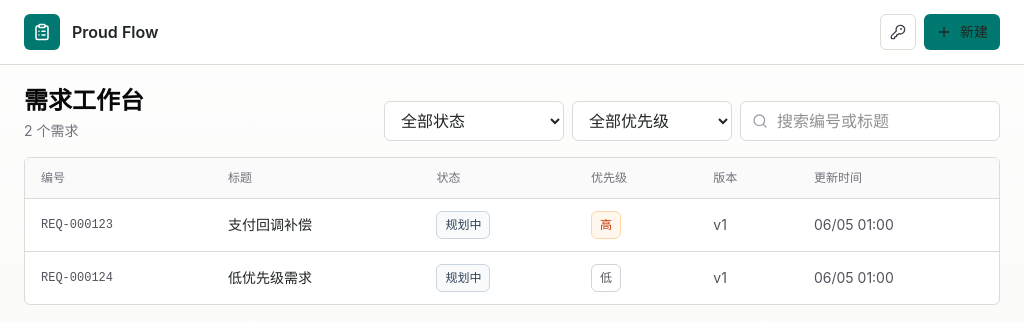
Test case: P7 web workspace › renders and filters requirements from the API
Expected: the link "支付回调补偿" is shown, [228, 216, 312, 233]
Type "支付" into the field with placeholder "搜索编号或标题" at [870, 121], box [740, 101, 1000, 141]
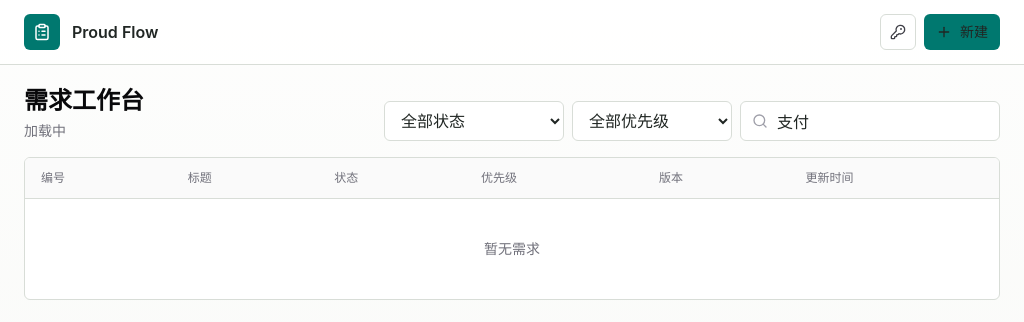
Result: the link "低优先级需求" is gone
Clear the field with placeholder "搜索编号或标题" at [870, 121], box [740, 101, 1000, 141]
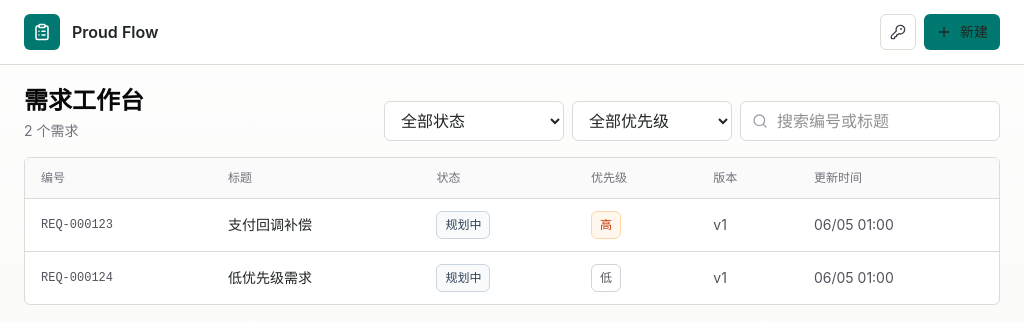
Select "低" in the 2nd dropdown at [652, 121], box [572, 101, 732, 141]
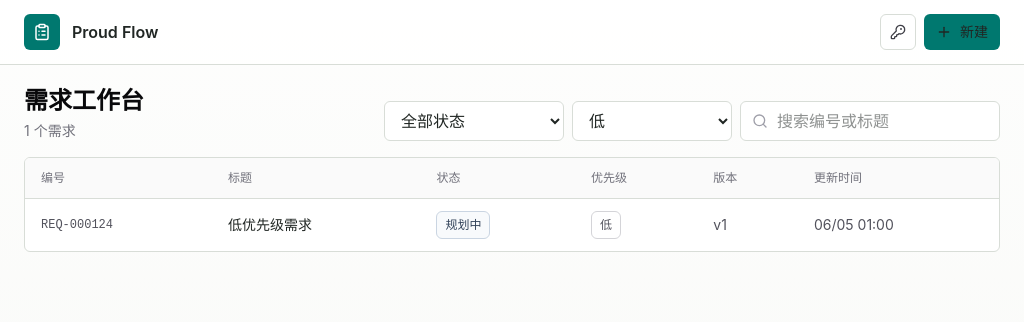
Result: the link "低优先级需求" is shown at [228, 216, 312, 233]
Result: the link "支付回调补偿" is gone
Select "技术方案待审" in the 1st dropdown at [474, 121], box [384, 101, 564, 141]
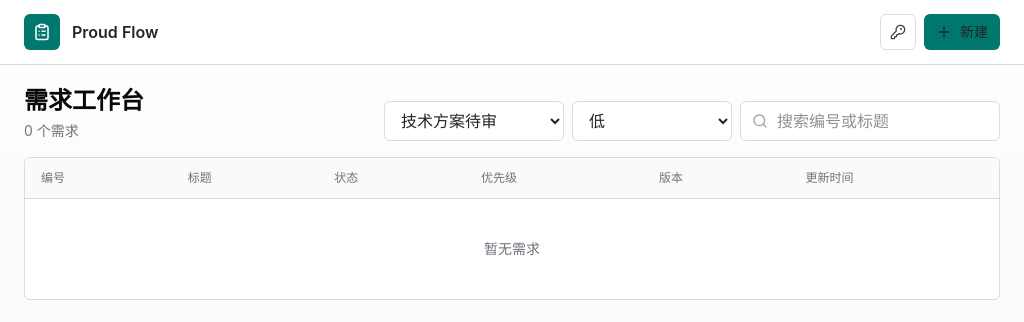
Result: the link "低优先级需求" is gone
Result: the text "暂无需求" is shown at [25, 198, 999, 299]
